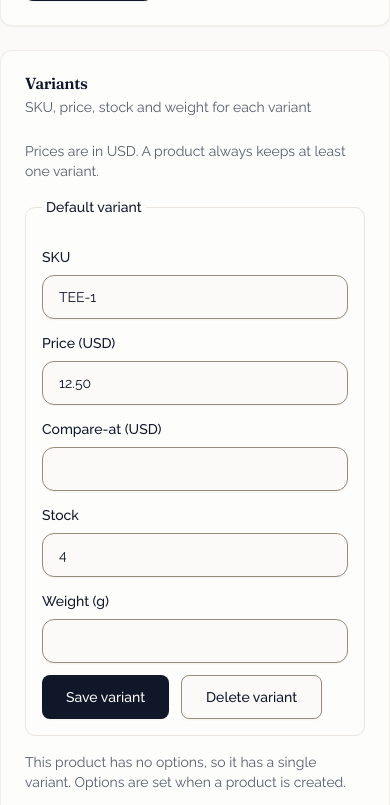
it: ProductEditor save feedback › keeps showing "Variant saved." and the server value when the saved values change
The image size is (390, 805).
(page scrolled)
Replace the text in the field labelled "Price (USD)" with "19.99" at (195, 383), box [42,361,348,405]
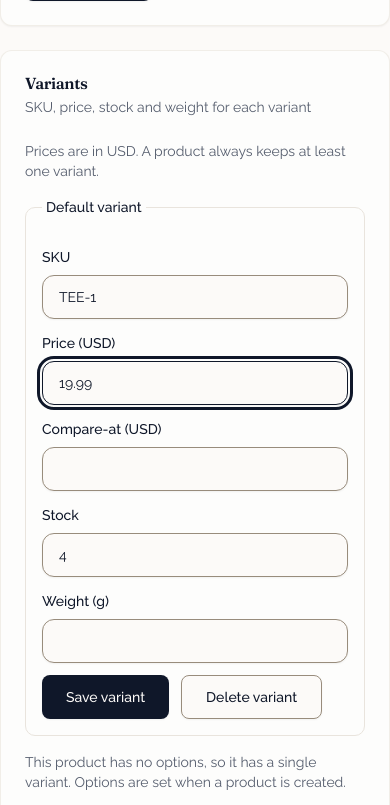
Click the button "Save variant".
click(106, 697)  # box [42,675,169,719]
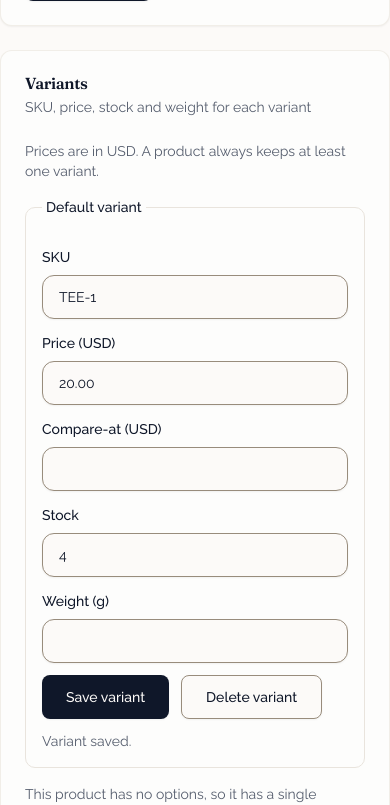
expect the text "Variant saved." is shown: met, box [42,731,131,751]
expect the field labelled "Price (USD)" holds "20.00": met, box [42,361,348,405]
